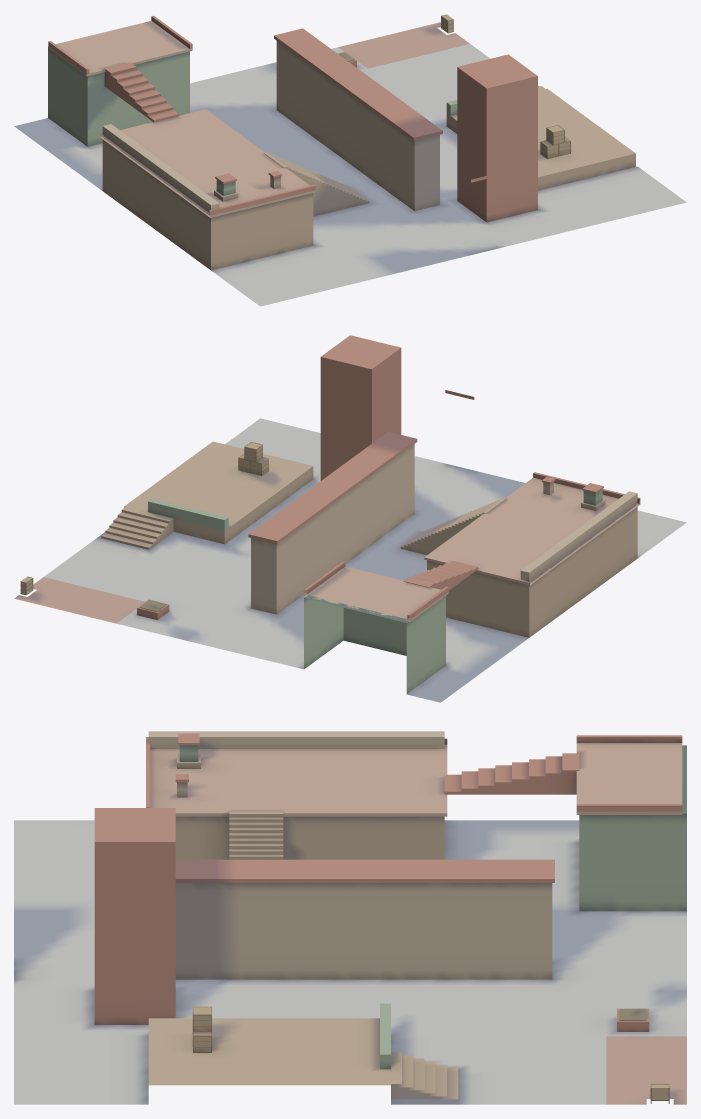
3 renders of one model, top to bottom at view 1: azimuth 30°, elevation 25°; view 2: azimuth 150°, elevation 25°; view 3: azimuth 270°, elevation 25°, orthographic. The views are drawn at different scales.
Parts seen in each view (by area): view 1: t; view 2: t; view 3: t.
Part boxes in pixels (box(x1,y1,x2,y2)): t: box(14, 14, 686, 306); t: box(14, 335, 686, 702); t: box(14, 731, 686, 1104).
Bounding box in the file's own units: 50.2 × 15 × 50.
